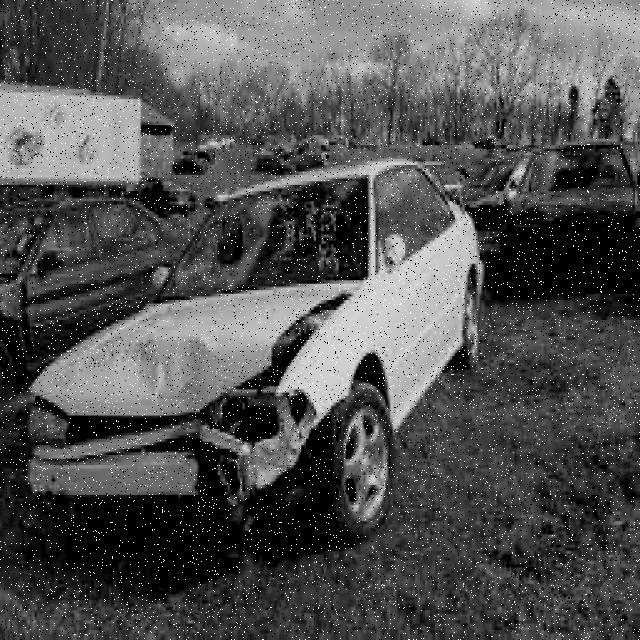car damage: (31, 286, 357, 531), (154, 179, 372, 300)
